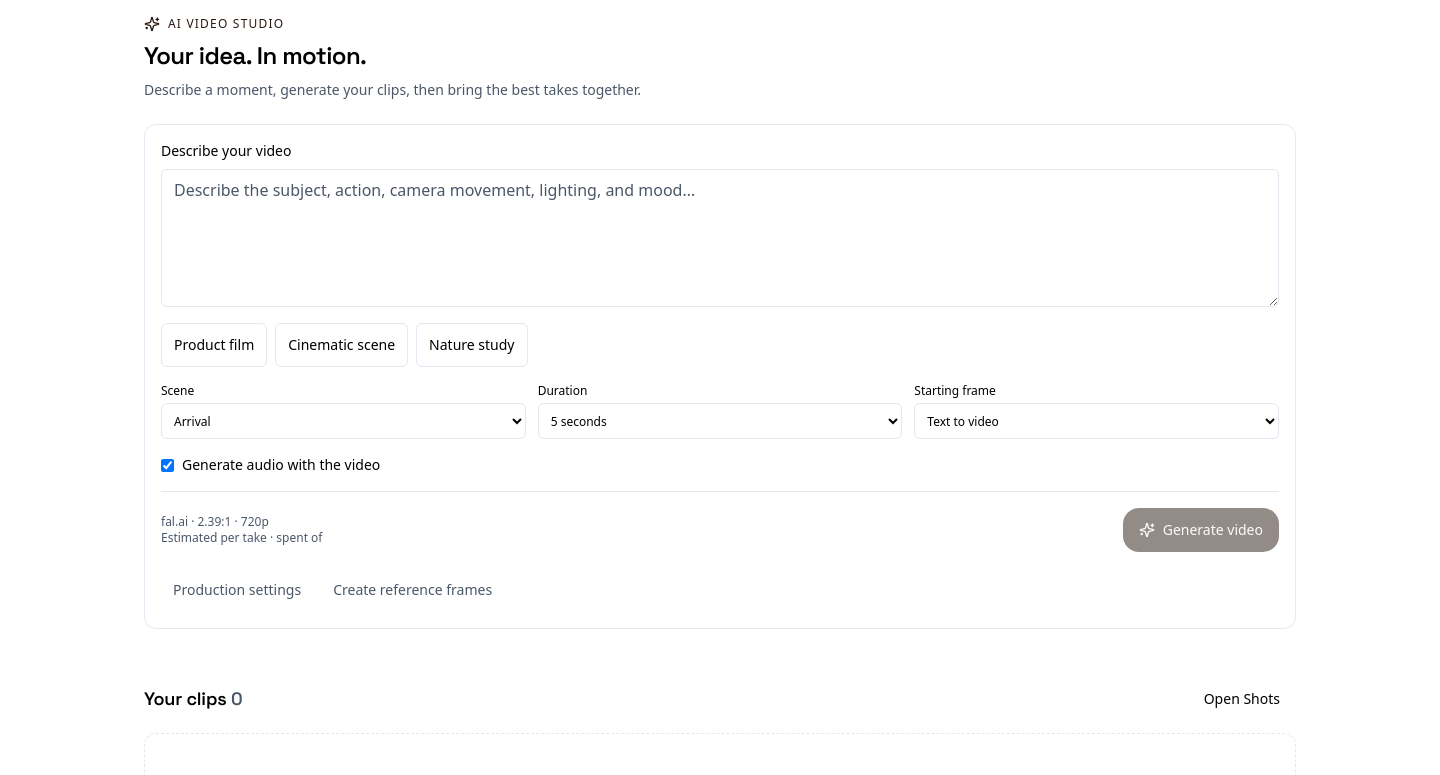
it: CreateVideoPanel › keeps a saved shot discoverable when the generation request fails
The width and height of the screenshot is (1440, 775).
Click the button "Nature study" at (472, 345), box [416,323,528,367]
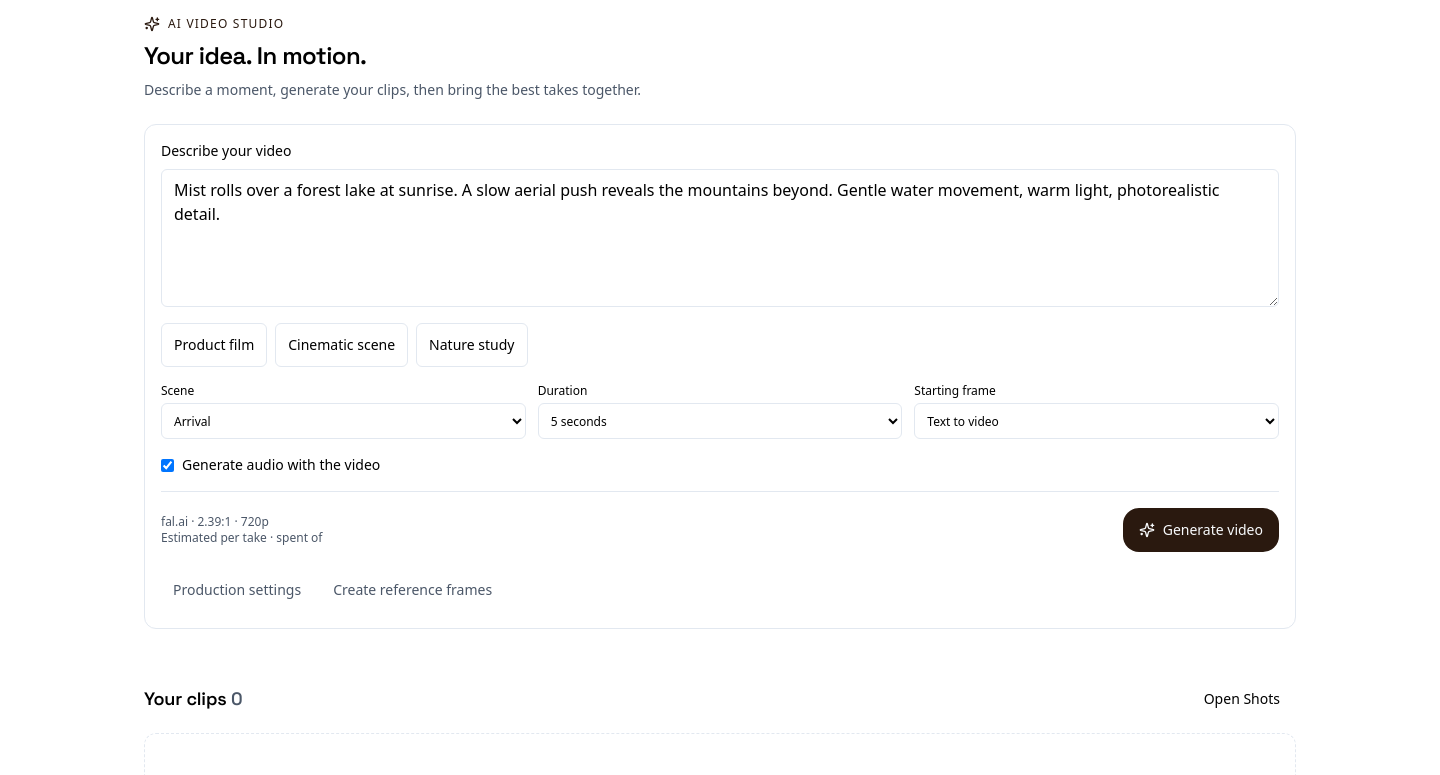
Click the button "Generate video" at (1201, 530), box [1123,508,1279,552]
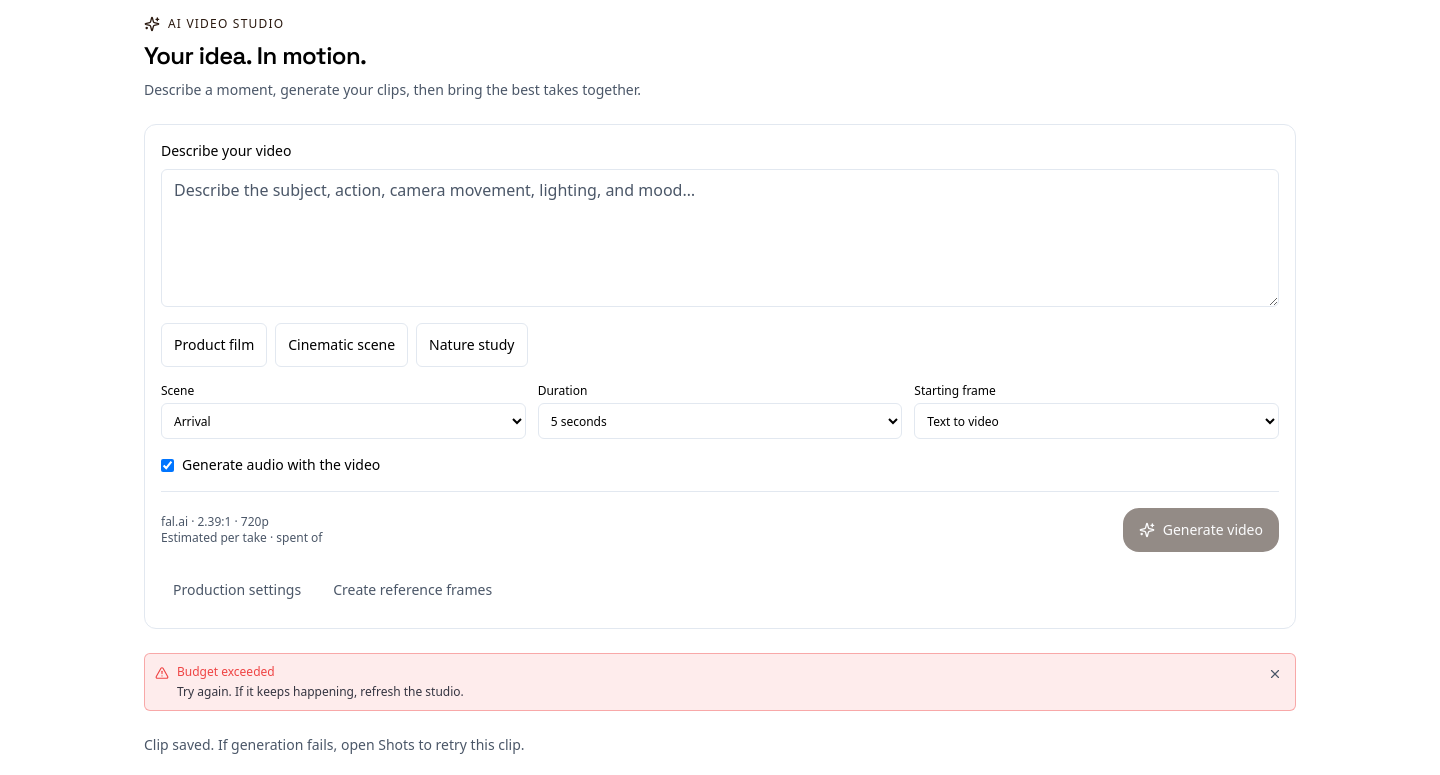
Expected: the text "Budget exceeded" is shown, [177,663,275,680]
Expected: the message "Clip saved. If generation fails, open Shots to retry this clip." is shown, [144,735,524,754]
Expected: the button "Generate video" is disabled, [1123,508,1279,552]
